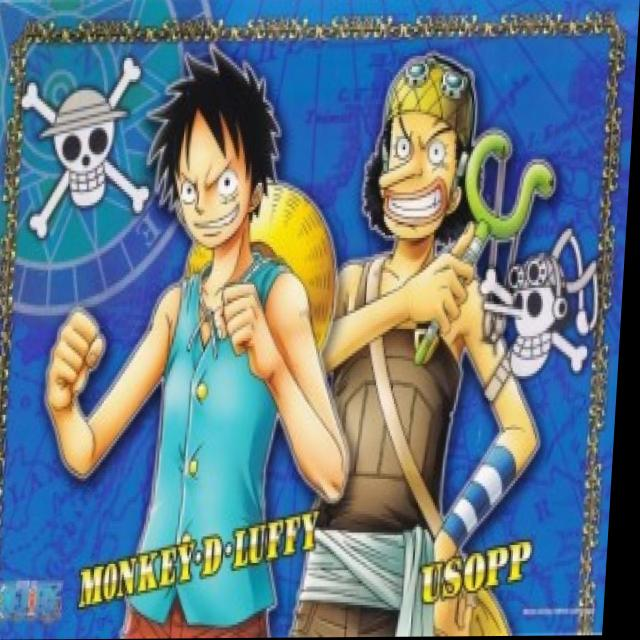Luffy: (137, 40, 309, 284)
Usopp: (333, 45, 524, 273)
